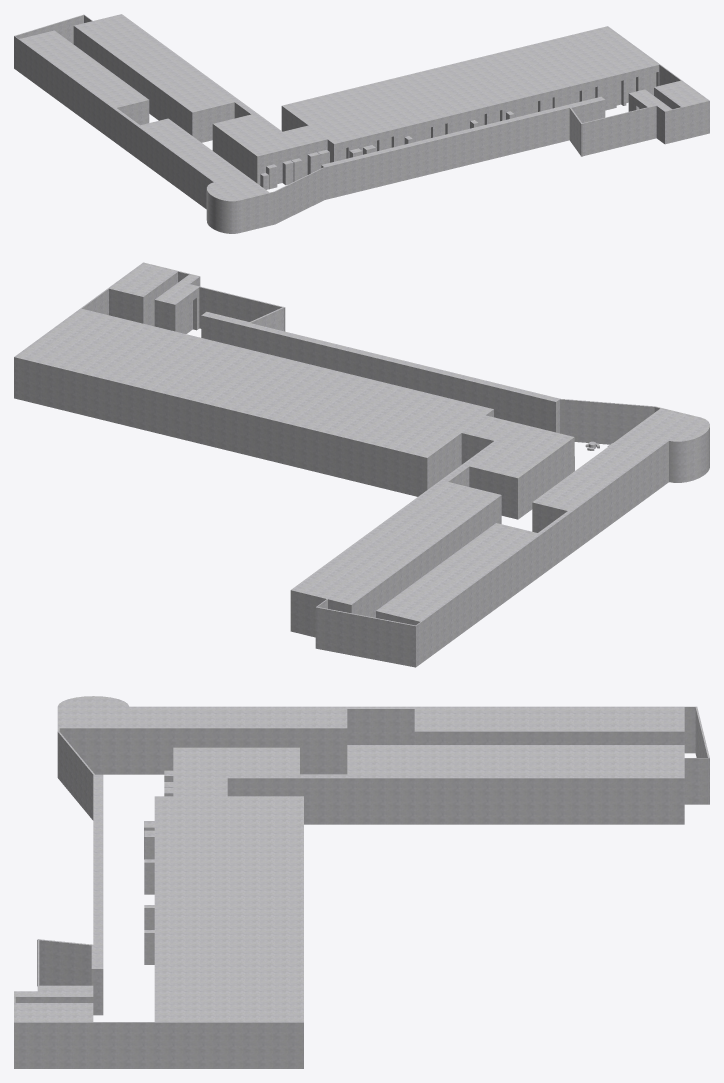
Rendered from Block.dae.
3 views of the same model, one above another, from view 1: azimuth 30°, elevation 25°; view 2: azimuth 150°, elevation 25°; view 3: azimuth 270°, elevation 25° (orthographic). The views are drawn at different scales.
Visible parts, largest first — view 1: PlayUp_Block; view 2: PlayUp_Block; view 3: PlayUp_Block.
Boxes of the visible parts, x1=… form: PlayUp_Block: x1=14, y1=14, x2=709, y2=233; PlayUp_Block: x1=14, y1=262, x2=709, y2=667; PlayUp_Block: x1=14, y1=696, x2=709, y2=1068.
Bounding box in the file's own units: 78.72 × 5.21 × 70.94.
